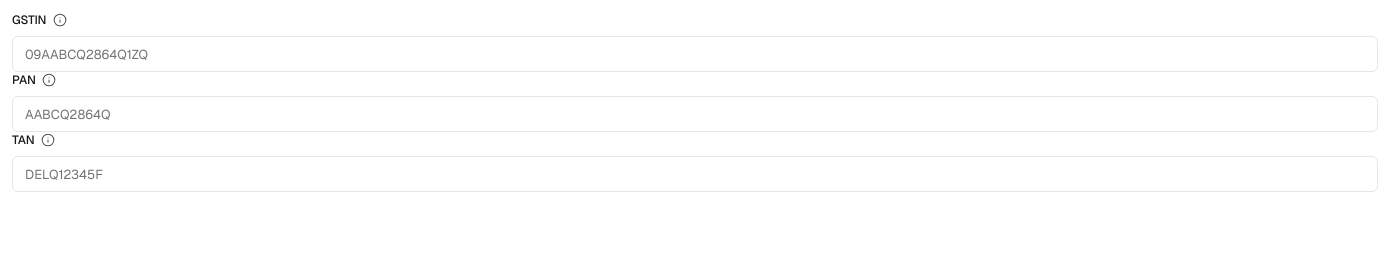
Test case: reports a second bad identifier once a first one is already wrong
The first error lands on its own: an empty GSTIN on a registered client.
Click the field labelled "GSTIN".
click(695, 54)  # box [12,36,1378,72]
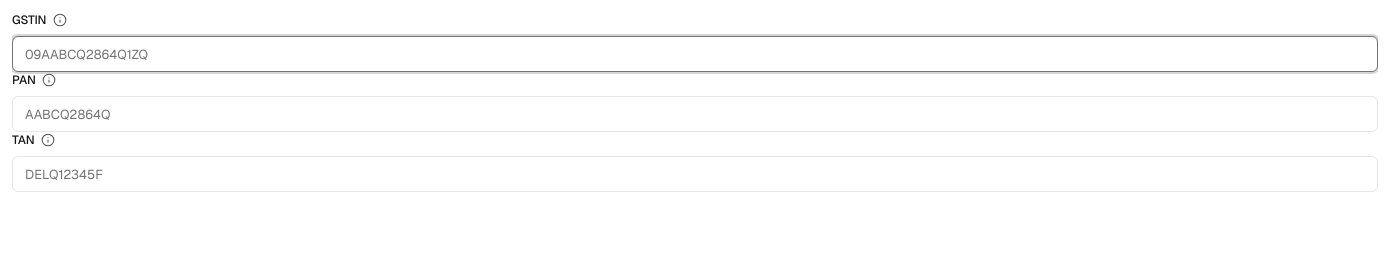
Press Tab
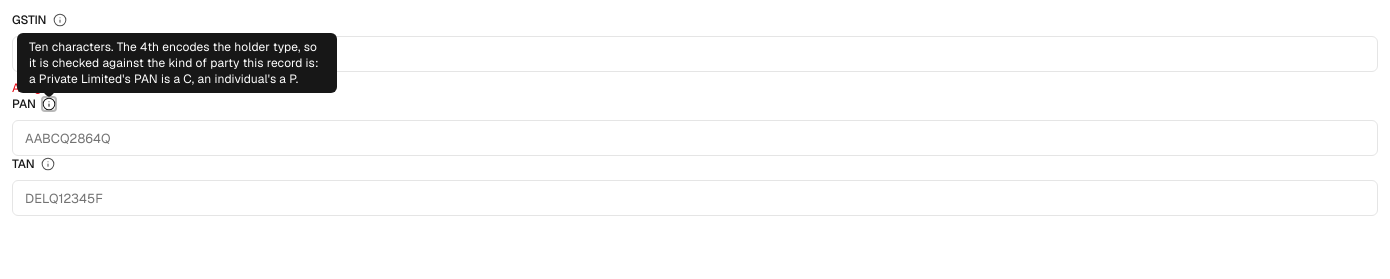
Expected: the text "A registered client has a GSTIN." is shown, [12,80,187,96]
The one that used to be swallowed.
Type "NOPE" into the field labelled "TAN".
click(695, 198); type("NOPE")  # box [12,180,1378,216]
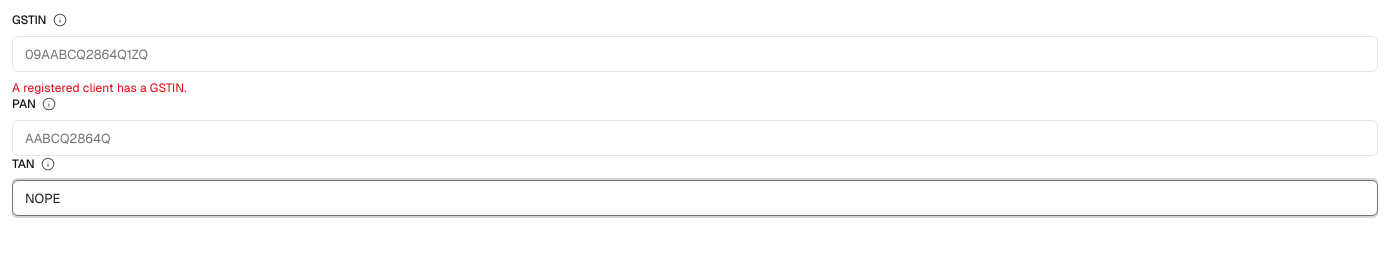
Press Tab
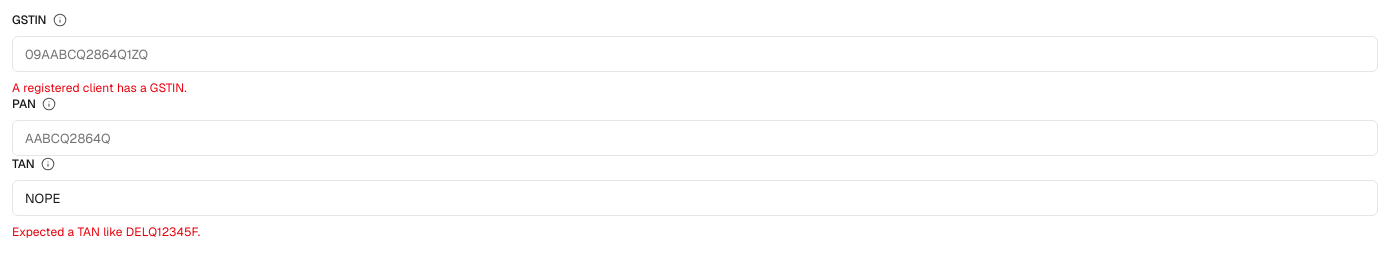
Expected: the text "Expected a TAN like DELQ12345F." is shown, [12,224,200,240]
And still the one after that.
Type "BADPAN1234" into the field labelled "PAN".
click(695, 138); type("BADPAN1234")  # box [12,120,1378,156]
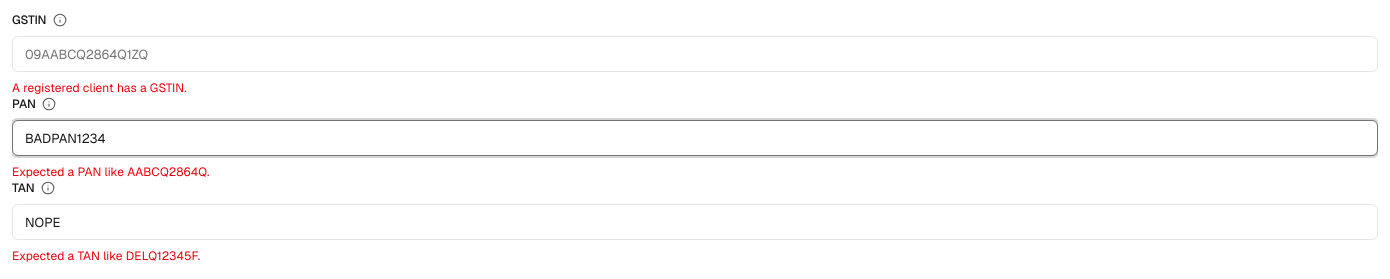
Expected: the text "Expected a PAN like AABCQ2864Q." is shown, [12,164,210,180]
